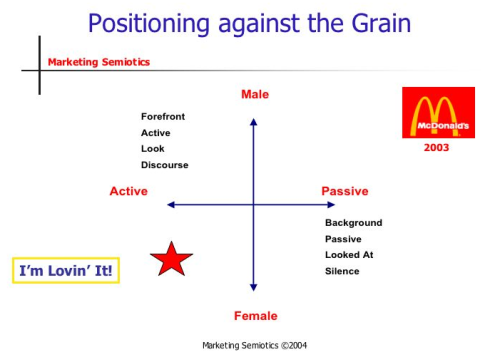mcdonalds: (406, 93, 461, 136)
